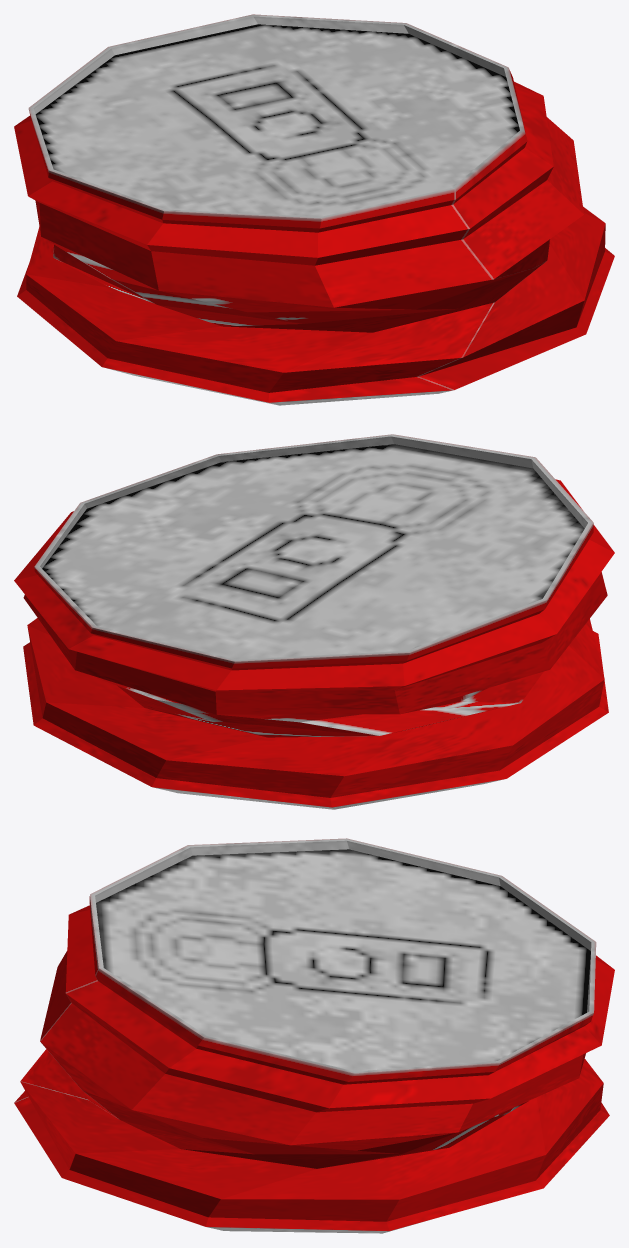
Rendered from KokeCan-Pressed.fbx.
3 views of the same model, one above another, from view 1: azimuth 30°, elevation 25°; view 2: azimuth 150°, elevation 25°; view 3: azimuth 270°, elevation 25° (orthographic).
Visible parts, largest first — view 1: Pressed-Akikan.001; view 2: Pressed-Akikan.001; view 3: Pressed-Akikan.001.
Part boxes in pixels (bbox=[...]): Pressed-Akikan.001: bbox=[14, 14, 614, 405]; Pressed-Akikan.001: bbox=[14, 434, 614, 809]; Pressed-Akikan.001: bbox=[14, 838, 614, 1233].
Size of the model in its own units: 0.0636 by 0.0218 by 0.0649.
1 material, 1 textured.
